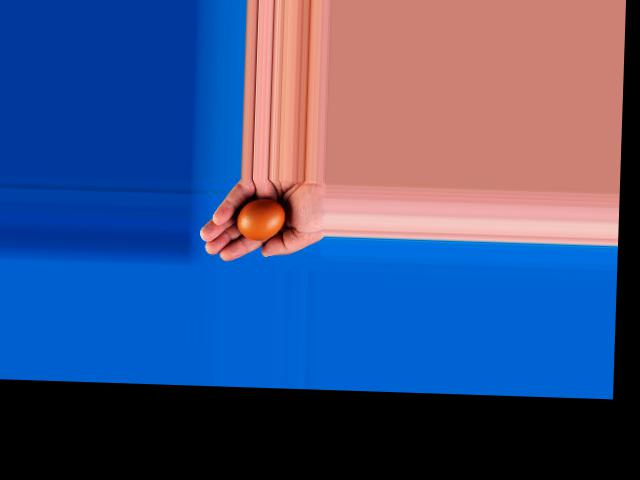egg: (235, 198, 285, 240)
